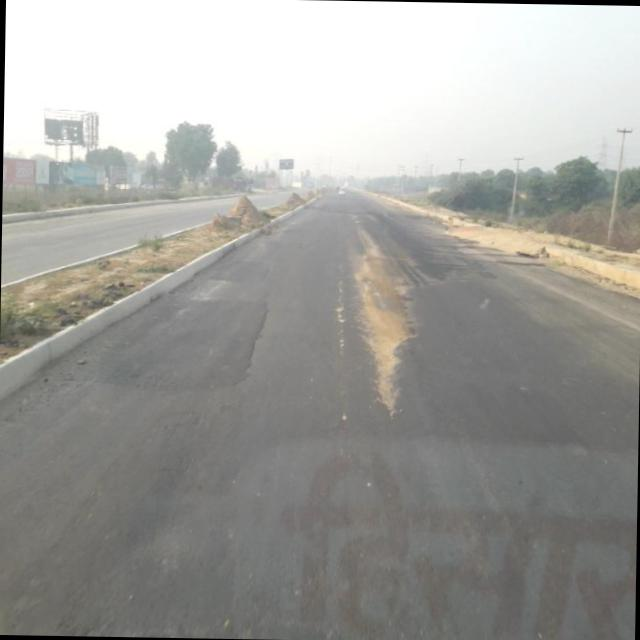pothole: (336, 252, 356, 378)
